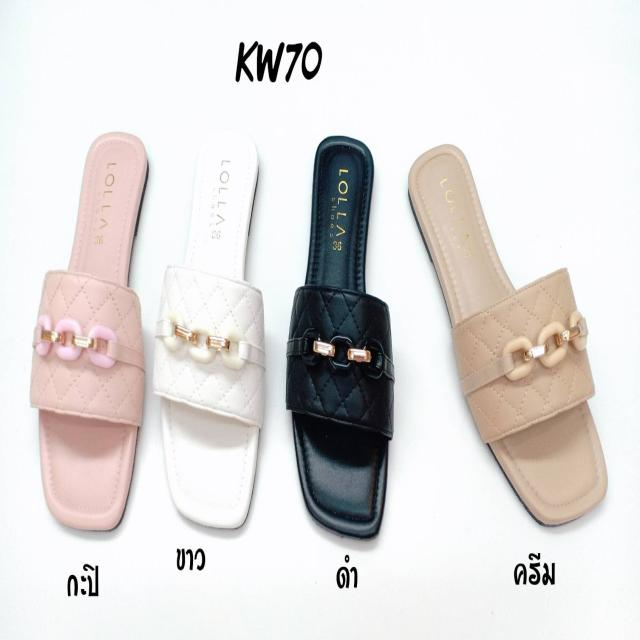black: (297, 134, 390, 534)
cream: (410, 146, 606, 532)
kapi: (42, 136, 143, 532)
white: (161, 130, 263, 535)
